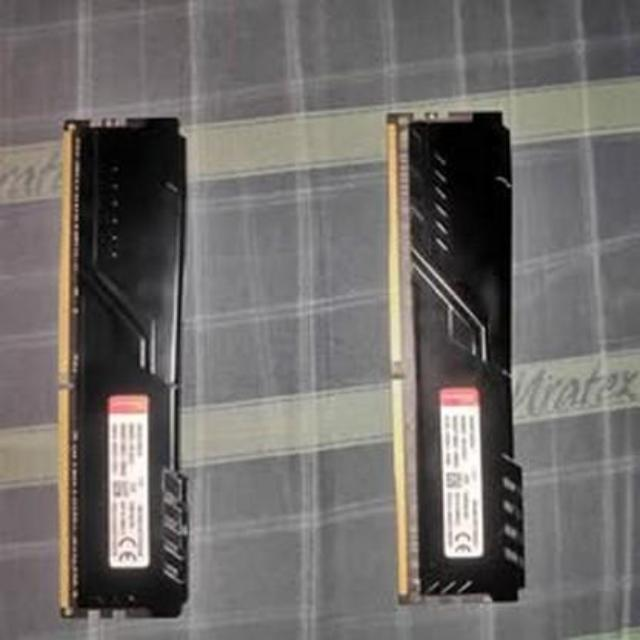RAM: (382, 108, 536, 610), (52, 109, 196, 620)
